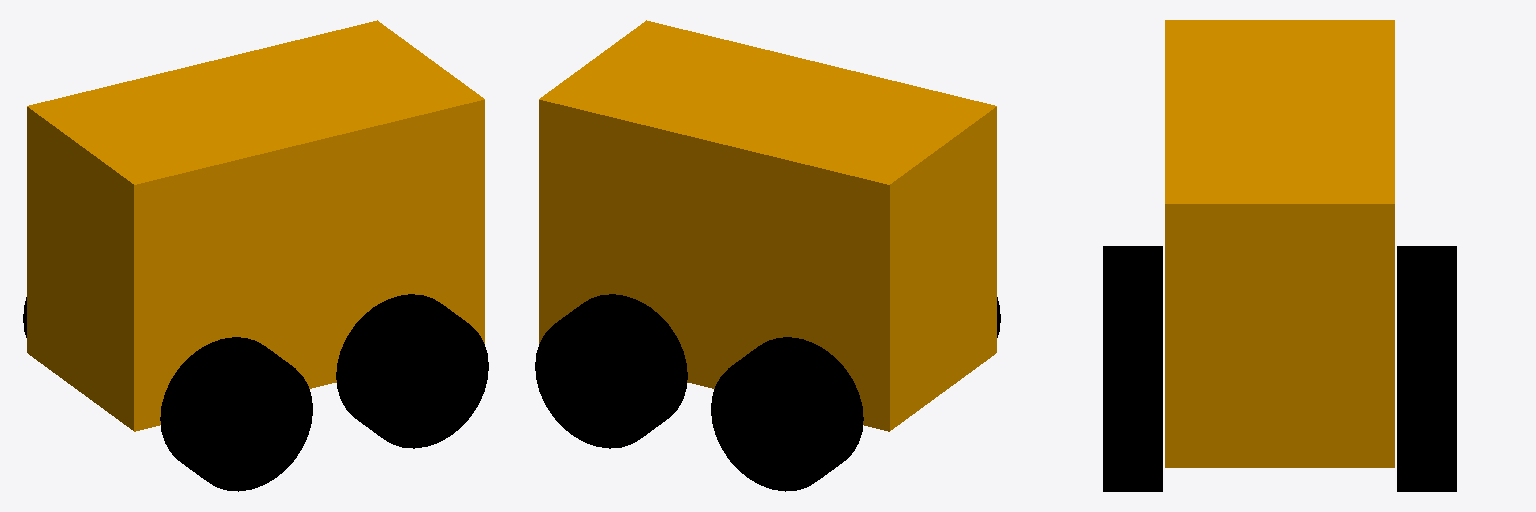
robot.urdf — yeti:
<?xml version="1.0" encoding="UTF-8"?>
<robot name="yeti">
    <material name="black">
        <color rgba="0 0 0 1" />
    </material>
    <link name="base_link">
        
        <visual name="visual">
<origin xyz="0 0 0.395" rpy="0 0 0" />
            <geometry>
                <box size=".93 .495 .625" />
            </geometry>
        </visual>
    </link>
    <link name="left_front_wheel">
        
        <visual name="visual">
<origin xyz="0.233 0.315 0.165" rpy="0 1.5707 1.5707" />
            <geometry>
                <cylinder radius=".165" length=".13" />
            </geometry>
            <material name="black" />
        </visual>
    </link>
    <link name="right_front_wheel">
        
        <visual name="visual">
<origin xyz="0.233 -0.315 0.165" rpy="0 1.5707 1.5707" />
            <geometry>
                <cylinder radius=".165" length=".13" />
            </geometry>
            <material name="black" />
        </visual>
    </link>
    <link name="left_back_wheel">
        
        <visual name="visual">
<origin xyz="-0.233 0.315 0.165" rpy="0 1.5707 1.5707" />
            <geometry>
                <cylinder radius=".165" length=".13" />
            </geometry>
            <material name="black" />
        </visual>
    </link>
    <link name="right_back_wheel">
        
        <visual name="visual">
<origin xyz="-0.233 -0.315 0.165" rpy="0 1.5707 1.5707" />
            <geometry>
                <cylinder radius=".165" length=".13" />
            </geometry>
            <material name="black" />
        </visual>
    </link>
    <joint type="fixed" name="left_front_wheel_hinge">
        <origin xyz="0 0 -0.065" rpy="0 0 0" />
        <child link="left_front_wheel"/>
        <parent link="base_link"/>
    </joint>
    <joint type="fixed" name="right_front_wheel_hinge">
        <origin xyz="0 0 -0.065" rpy="0 0 0" />
        <child link="right_front_wheel"/>
        <parent link="base_link"/>
    </joint>
    <joint type="fixed" name="left_back_wheel_hinge">
        <origin xyz="0 0 -0.065" rpy="0 0 0" />
        <child link="left_back_wheel"/>
        <parent link="base_link"/>
    </joint>
    <joint type="fixed" name="right_back_wheel_hinge">
        <origin xyz="0 0 -0.065" rpy="0 0 0" />
        <child link="right_back_wheel"/>
        <parent link="base_link"/>
    </joint>
</robot>

--- What the picture shows (computed from the rendered views, not written in the file) ---
The picture shows the robot from 3 angles, left to right: view 1: azimuth 30°, elevation 25°; view 2: azimuth 150°, elevation 25°; view 3: azimuth 270°, elevation 25°; orthographic projection.
Robot: yeti — 5 links, 4 joints (4 fixed); root link base_link; default pose: all joints at 0.
Visible links, largest first — view 1: base_link, right_front_wheel, right_back_wheel; view 2: base_link, left_back_wheel, left_front_wheel; view 3: base_link, left_front_wheel, right_front_wheel, left_back_wheel, right_back_wheel.
Boxes of the visible links, x1,y1,x2,y2 form: base_link: (27,20,484,431); right_front_wheel: (336,294,488,448); right_back_wheel: (160,337,312,491); base_link: (539,20,996,431); left_back_wheel: (711,337,863,491); left_front_wheel: (535,294,687,448); base_link: (1165,20,1394,467); left_front_wheel: (1397,338,1456,491); right_front_wheel: (1103,338,1162,491); left_back_wheel: (1397,246,1456,337); right_back_wheel: (1103,246,1162,337).
Bounding box of the posed robot: 0.93 × 0.76 × 0.7725 m (x, y, z).
Geometry: primitives only (box / cylinder / sphere), no mesh files.